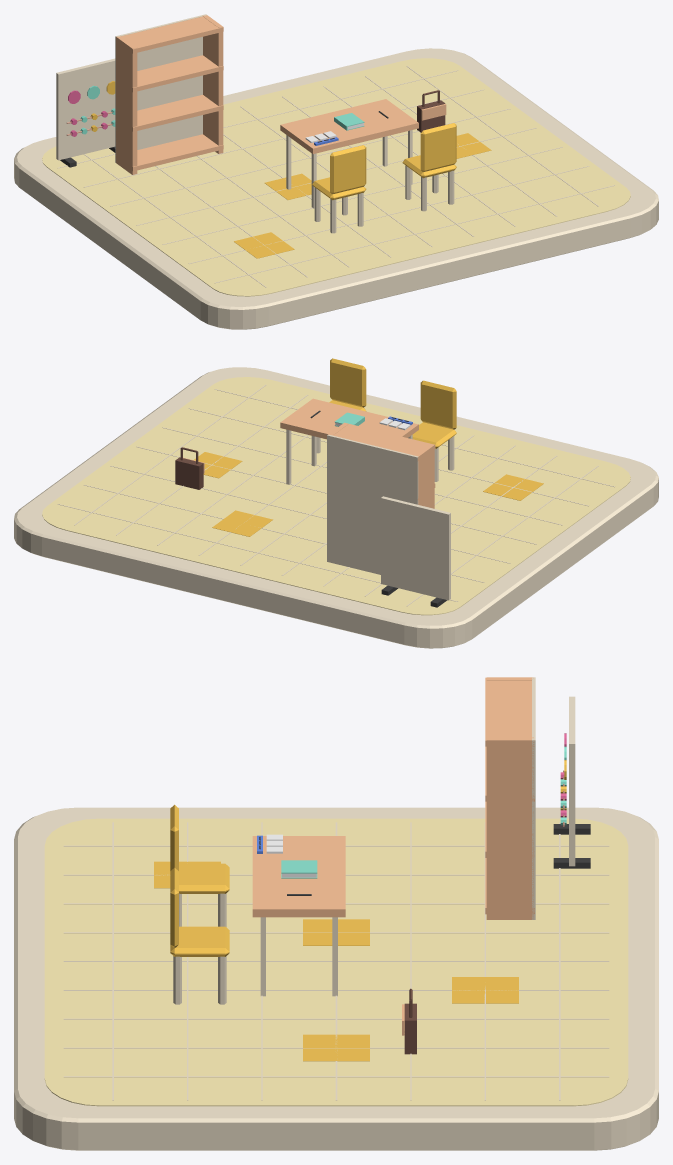
3 views of the same model, one above another, from view 1: azimuth 30°, elevation 25°; view 2: azimuth 150°, elevation 25°; view 3: azimuth 270°, elevation 25° (orthographic). The views are drawn at different scales.
Visible parts, largest first — view 1: COM-02 Floor Surface, COM-01 Rounded Base Direct, Panel, Top, Back, Side, Side.001, Shelf.003, Shelf, Shelf.002, Shelf.001, Backrest (+11 smaller); view 2: COM-02 Floor Surface, COM-01 Rounded Base Direct, Back, Panel, Top, Backrest, Backrest.001, Shelf.003, Side, Bag, Geometric color tile.002, Geometric color tile (+3 smaller); view 3: COM-02 Floor Surface, COM-01 Rounded Base Direct, Side.001, Top, Shelf.003, Geometric color tile.003, Geometric color tile.002, Geometric color tile.001, Seat.001, Seat, Panel, Grout X.008 (+8 smaller).
Boxes of the visible parts, x1,y1,x2,y2 form: COM-02 Floor Surface: (42,58,630,296); COM-01 Rounded Base Direct: (14,48,658,329); Panel: (56,58,115,160); Top: (280,99,418,208); Back: (115,14,206,162); Side: (116,36,137,174); Side.001: (202,15,223,153); Shelf.003: (122,16,223,53); Shelf: (119,134,223,171); Shelf.002: (124,55,223,92); Shelf.001: (124,94,223,131); Backrest: (330,145,366,194); COM-02 Floor Surface: (42,377,630,615); COM-01 Rounded Base Direct: (14,367,658,648); Back: (327,434,418,574); Panel: (381,496,450,600); Top: (280,398,418,484); Backrest: (420,380,456,429); Backrest.001: (330,358,366,407); Shelf.003: (333,422,435,461); Side: (414,444,434,508); Bag: (175,447,204,489); Geometric color tile.002: (212,510,272,536); Geometric color tile: (483,474,543,500); COM-02 Floor Surface: (44,818,628,1106); COM-01 Rounded Base Direct: (14,807,658,1150); Side.001: (486,737,533,919); Top: (252,836,345,996); Shelf.003: (485,677,534,746); Geometric color tile.003: (303,1034,369,1061); Geometric color tile.002: (452,977,518,1003); Geometric color tile.001: (303,919,369,945); Seat.001: (170,926,229,956); Seat: (179,863,229,893); Panel: (569,696,575,866); Grout X.008: (63,1076,609,1077).
Bounding box in the file's own units: 6 × 1.9 × 5.2.
Materials: 1 (1 with a texture image).
